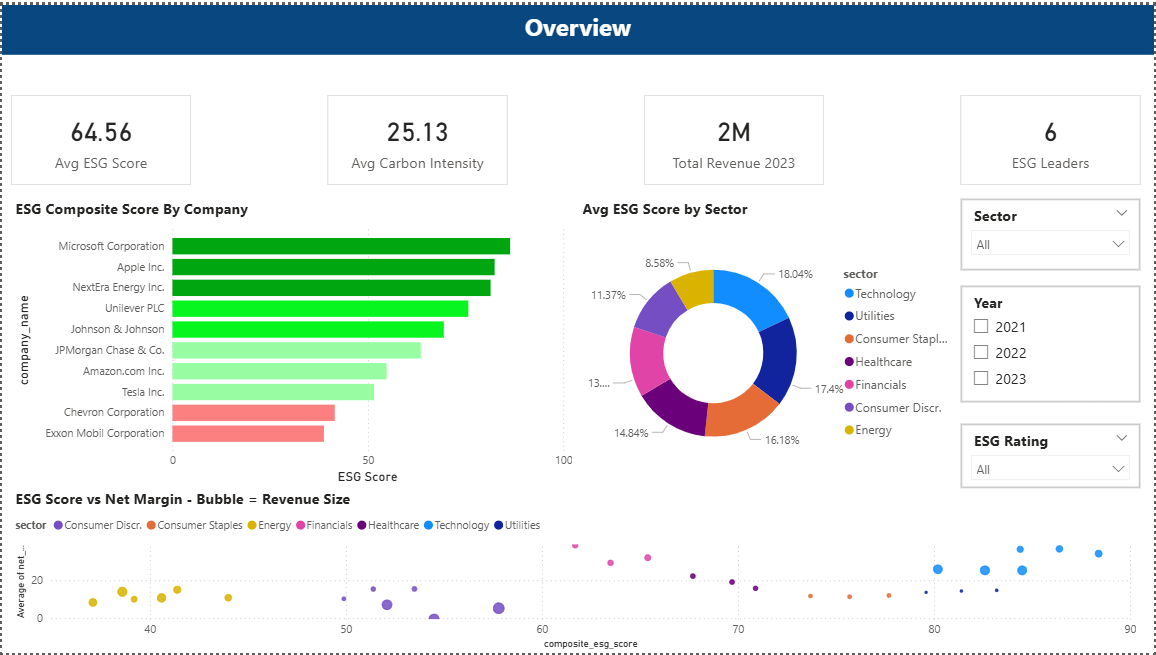

The dashboard page shown, as its layout file describes it:
{"tool":"powerbi","page":{"name":"Executive Overview","canvas":[1280,720],"ordinal":0},"visuals":[{"type":"card","fields":{"Values":["_Measures.Avg ESG Score"]},"box":[10,100,200,100],"z":0},{"type":"card","fields":{"Values":["_Measures.Total Revenue 2023"]},"box":[713.3,100,200,100],"z":1000},{"type":"card","fields":{"Values":["_Measures.ESG Leaders"]},"box":[1065,100,200,100],"z":2000},{"type":"card","fields":{"Values":["_Measures.Avg Carbon Intensity"]},"box":[361.7,100,200,100],"z":3000},{"type":"clusteredBarChart","title":"ESG Composite Score By Company ","fields":{"Category":["companies.company_name"],"Y":["Avg(master_dataset.composite_esg_score)"]},"box":[10,215,628.3,321.7],"z":4000},{"type":"scatterChart","title":"ESG Score vs Net Margin - Bubble = Revenue Size","fields":{"X":["master_dataset.composite_esg_score"],"Y":["Avg(master_dataset.net_margin_pct)"],"Size":["Avg(master_dataset.revenue_mn)"],"Series":["companies.sector"]},"box":[10,536.7,1255,183.3],"z":5000},{"type":"donutChart","title":"Avg ESG Score by Sector","fields":{"Category":["companies.sector"],"Y":["_Measures.Avg ESG Score"]},"box":[640,215,425,321.7],"z":6000},{"type":"slicer","fields":{"Values":["companies.sector"]},"box":[1065,215,200,80],"z":7000},{"type":"slicer","fields":{"Values":["master_dataset.fiscal_year"]},"box":[1065,311.7,200,130],"z":8000},{"type":"slicer","fields":{"Values":["master_dataset.esg_rating"]},"box":[1065,465,200,71.7],"z":9000},{"type":"textbox","box":[0,0,1280,55],"z":10000}]}

Visuals, with their boxes in screenshot pixels (x1, y1, x2, y2), scaled from the page's 1280x720 canvas onto the 1156x655 screenshot:
card - _Measures.Avg ESG Score: [9, 91, 190, 182]
card - _Measures.Total Revenue 2023: [644, 91, 825, 182]
card - _Measures.ESG Leaders: [962, 91, 1142, 182]
card - _Measures.Avg Carbon Intensity: [327, 91, 507, 182]
"ESG Composite Score By Company " clusteredBarChart: [9, 196, 576, 488]
"ESG Score vs Net Margin - Bubble = Revenue Size" scatterChart: [9, 488, 1142, 654]
"Avg ESG Score by Sector" donutChart: [578, 196, 962, 488]
slicer - companies.sector: [962, 196, 1142, 268]
slicer - master_dataset.fiscal_year: [962, 284, 1142, 402]
slicer - master_dataset.esg_rating: [962, 423, 1142, 488]
textbox: [0, 0, 1155, 50]
